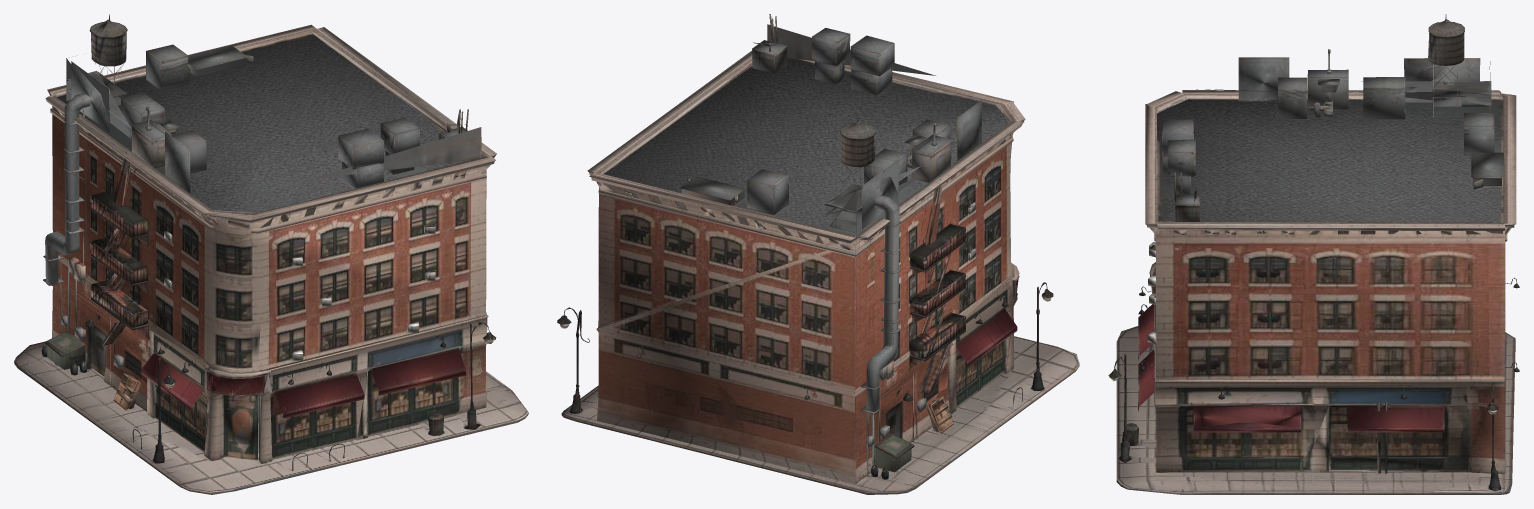
File: brick-corner.glb
3 views of the same model, side by side, from view 1: azimuth 30°, elevation 25°; view 2: azimuth 150°, elevation 25°; view 3: azimuth 270°, elevation 25° (orthographic).
Bounding box in the file's own units: 0.9565 × 0.9048 × 0.9546.
Materials: 1 (1 with a texture image).
